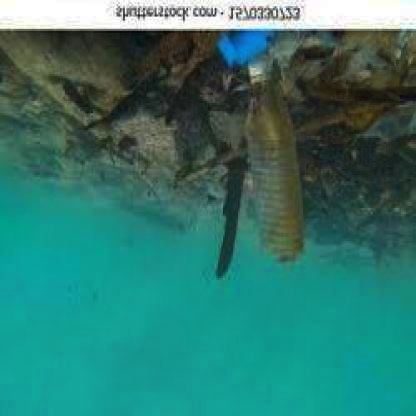pbottle: (243, 51, 311, 270)
